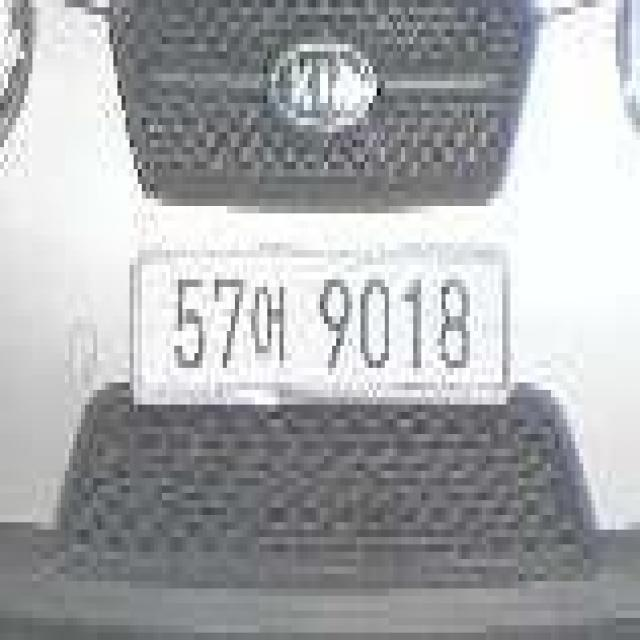0: (357, 262, 391, 378)
1: (397, 261, 432, 378)
5: (172, 265, 208, 378)
7: (211, 266, 247, 376)
8: (436, 260, 473, 380)
9: (314, 262, 352, 375)
eo: (251, 267, 290, 377)
license_plate: (128, 232, 516, 416)
